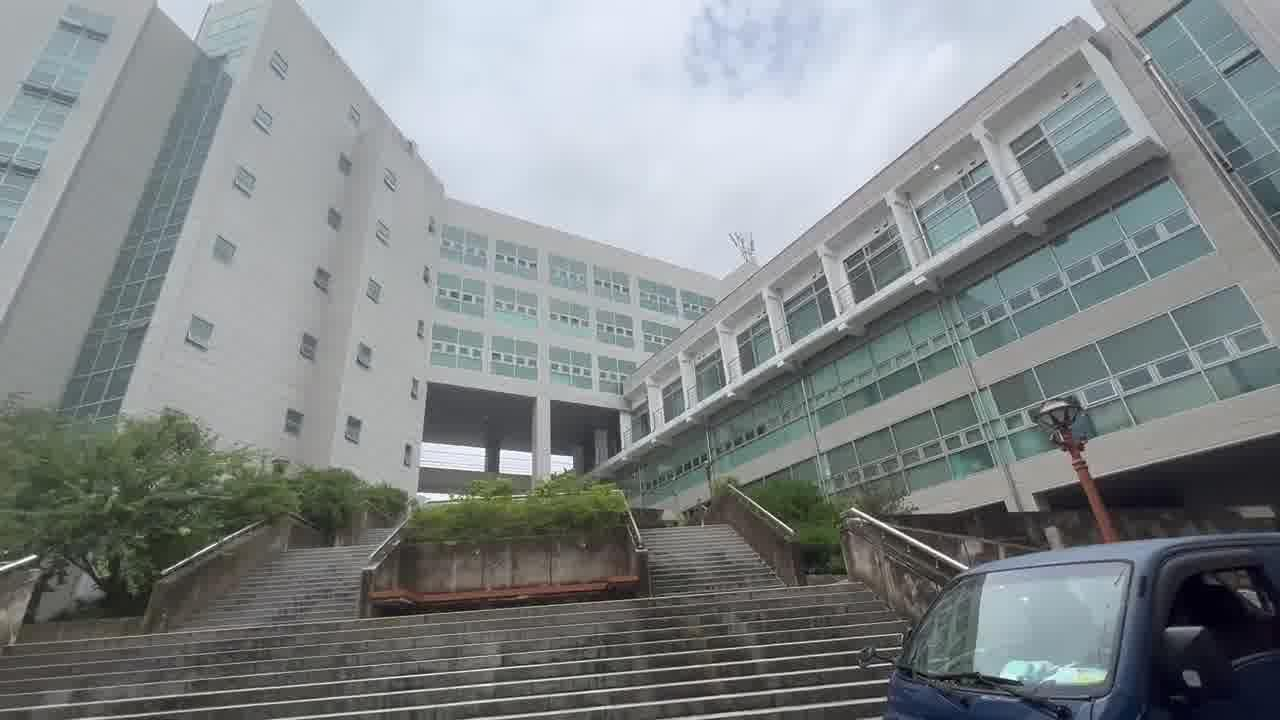building: (37, 47, 446, 452)
